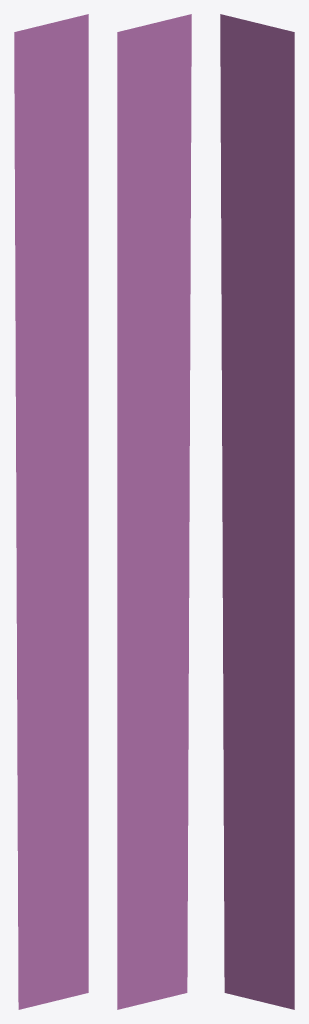
The model's file is cluster_31.fbx.
3 renders of one model, left to right at view 1: azimuth 30°, elevation 25°; view 2: azimuth 210°, elevation 25°; view 3: azimuth 330°, elevation 25°, orthographic.
Visible parts, largest first — view 1: cluster_31; view 2: cluster_31; view 3: cluster_31.
Boxes of the visible parts, bbox=[...] form: cluster_31: bbox=[14, 14, 88, 1009]; cluster_31: bbox=[117, 14, 191, 1009]; cluster_31: bbox=[220, 14, 294, 1009].
Bounding box in the file's own units: 13628 × 171000 × 0.0279.
